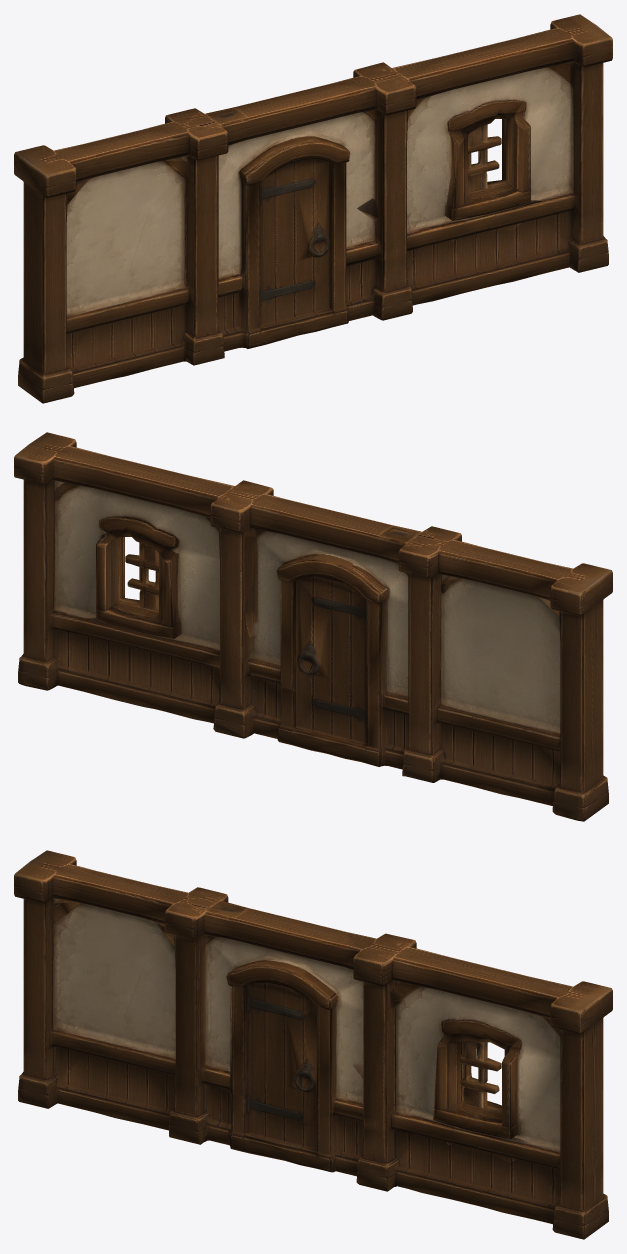
The model's file is timber-framed_cottage.fbx.
The picture shows the model from 3 angles, top to bottom: view 1: azimuth 30°, elevation 25°; view 2: azimuth 150°, elevation 25°; view 3: azimuth 330°, elevation 25°; orthographic projection.
Visible parts, largest first — view 1: obj1; view 2: obj1; view 3: obj1.
Boxes of the visible parts, left/top/right/bottom form: obj1: left=14, top=14, right=612, bottom=403; obj1: left=14, top=432, right=612, bottom=821; obj1: left=14, top=850, right=612, bottom=1239.
Bounding box in the file's own units: 191 × 73.97 × 19.17.
Materials: 1 (1 with a texture image).
